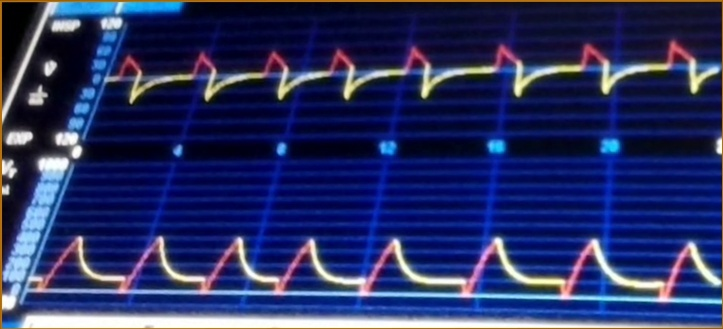Flow: (118, 28, 721, 131)
Leakage Volume: (50, 202, 722, 309)
